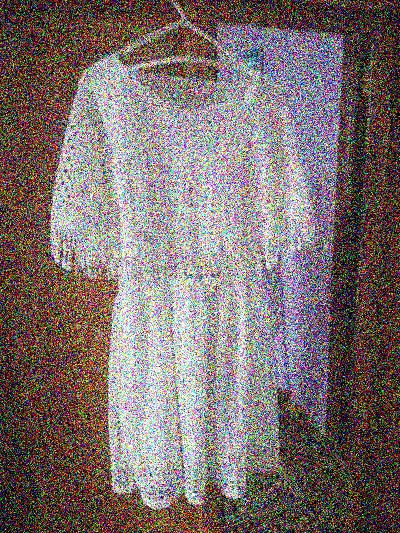Dress: (52, 36, 315, 514)
